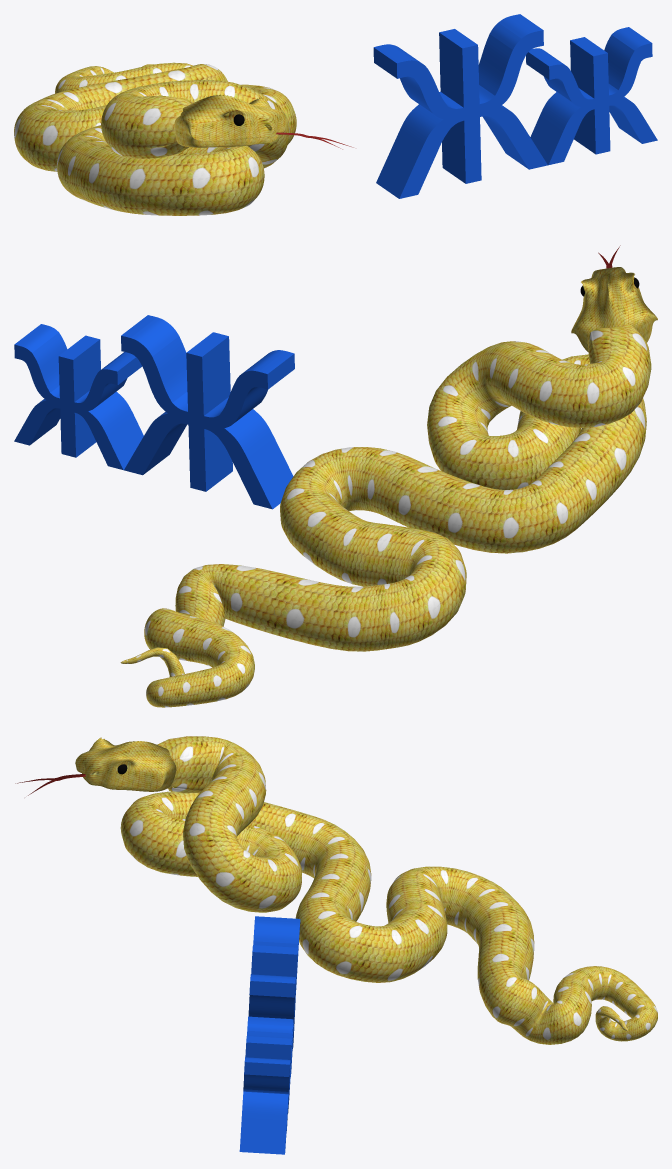
3 views of the same model, one above another, from view 1: azimuth 30°, elevation 25°; view 2: azimuth 150°, elevation 25°; view 3: azimuth 270°, elevation 25° (orthographic). The views are drawn at different scales.
Visible parts, largest first — view 1: Snake, Mesh_0.007; view 2: Snake, Mesh_0.007; view 3: Snake, Mesh_0.007.
Boxes of the visible parts, x1,y1,x2,y2 form: Snake: (14, 62, 353, 215); Mesh_0.007: (373, 14, 657, 198); Snake: (120, 245, 657, 707); Mesh_0.007: (14, 315, 294, 509); Snake: (15, 736, 657, 1044); Mesh_0.007: (239, 916, 300, 1154).
Bounding box in the file's own units: 38.67 × 16.22 × 41.4.
Materials: 5 (2 with a texture image).
